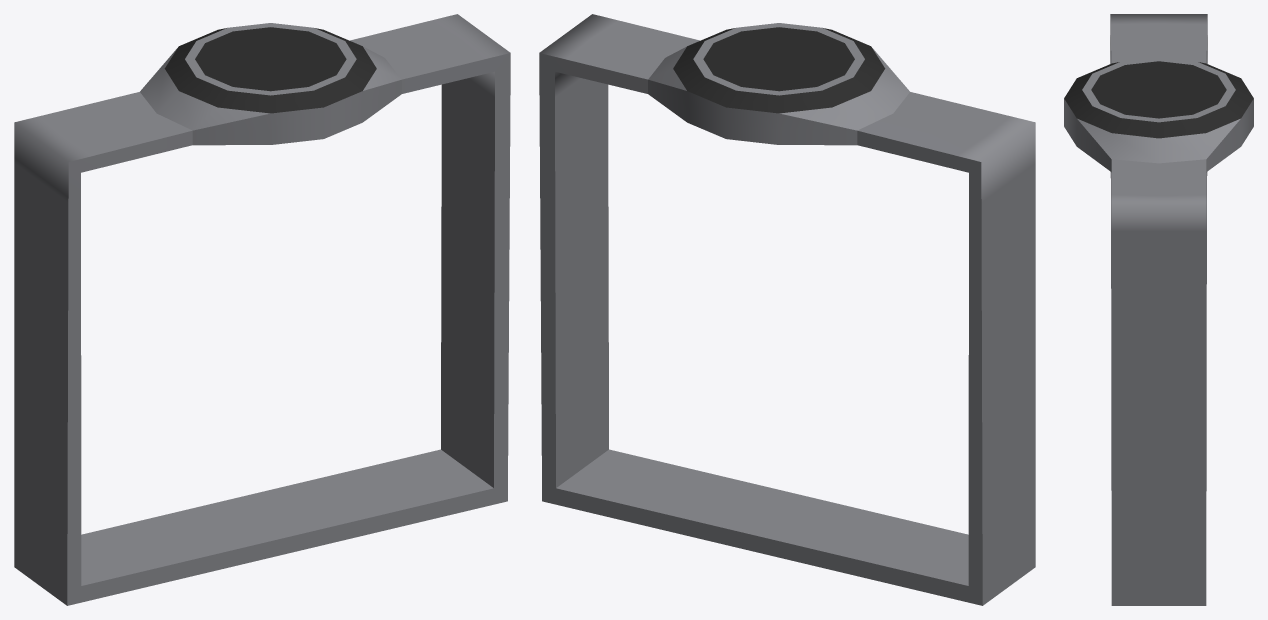
File: nice watch.fbx
3 renders of one model, left to right at view 1: azimuth 30°, elevation 25°; view 2: azimuth 150°, elevation 25°; view 3: azimuth 270°, elevation 25°, orthographic. The views are drawn at different scales.
Visible parts, largest first — view 1: nice watch; view 2: nice watch; view 3: nice watch.
Part boxes in pixels (bbox=[...]): nice watch: bbox=[14, 14, 510, 605]; nice watch: bbox=[539, 14, 1035, 605]; nice watch: bbox=[1064, 14, 1253, 605].
Bounding box in the file's own units: 0.3052 × 0.3118 × 0.1265.
